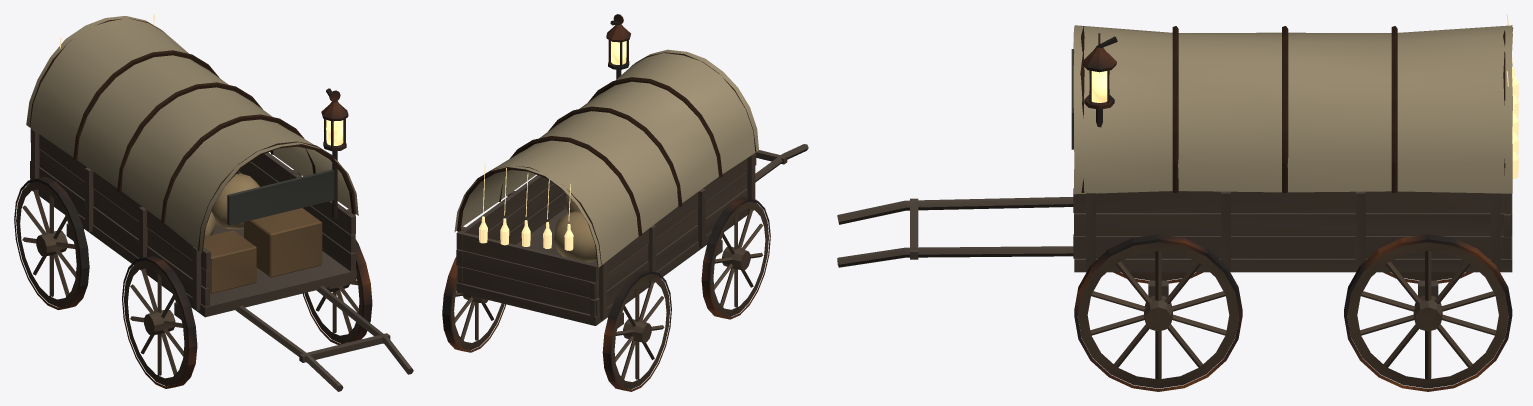
The model's file is merchant-cart.glb.
The picture shows the model from 3 angles, left to right: view 1: azimuth 30°, elevation 25°; view 2: azimuth 150°, elevation 25°; view 3: azimuth 270°, elevation 25°; orthographic projection. The views are drawn at different scales.
Visible parts, largest first — view 1: merchant-cart-wood, merchant-cart-cloth, merchant-cart-iron, merchant-cart-glow; view 2: merchant-cart-wood, merchant-cart-cloth, merchant-cart-iron, merchant-cart-bottles; view 3: merchant-cart-cloth, merchant-cart-wood, merchant-cart-iron, merchant-cart-bottles.
Boxes of the visible parts, x1,y1,x2,y2 form: merchant-cart-wood: (16,18,413,391); merchant-cart-cloth: (26,16,358,253); merchant-cart-iron: (14,88,372,388); merchant-cart-glow: (326,120,343,145); merchant-cart-wood: (451,52,808,389); merchant-cart-cloth: (454,49,758,267); merchant-cart-iron: (442,14,770,391); merchant-cart-bottles: (479,163,573,250); merchant-cart-cloth: (1073,25,1513,194); merchant-cart-wood: (837,26,1512,388); merchant-cart-iron: (1074,33,1512,391); merchant-cart-bottles: (1506,14,1518,178).
Size of the model in its own units: 1.68 by 2.23 by 4.04.
